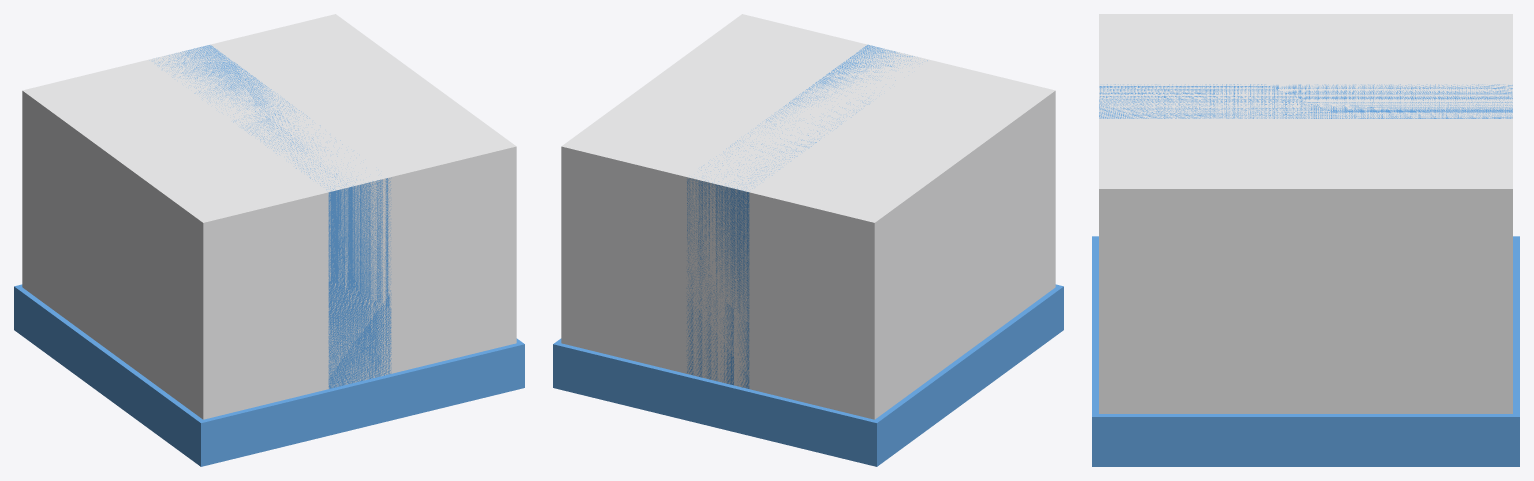
The model's file is futebol_manga_sup.glb.
3 views of the same model, side by side, from view 1: azimuth 30°, elevation 25°; view 2: azimuth 150°, elevation 25°; view 3: azimuth 270°, elevation 25° (orthographic). The views are drawn at different scales.
Visible parts, largest first — view 1: futebol_manga_sup; view 2: futebol_manga_sup; view 3: futebol_manga_sup.
Boxes of the visible parts, <box> form: futebol_manga_sup: <box>14,14,524,466</box>; futebol_manga_sup: <box>553,14,1063,466</box>; futebol_manga_sup: <box>1092,14,1519,466</box>.
Size of the model in its own units: 0.31 by 0.22 by 0.31.
